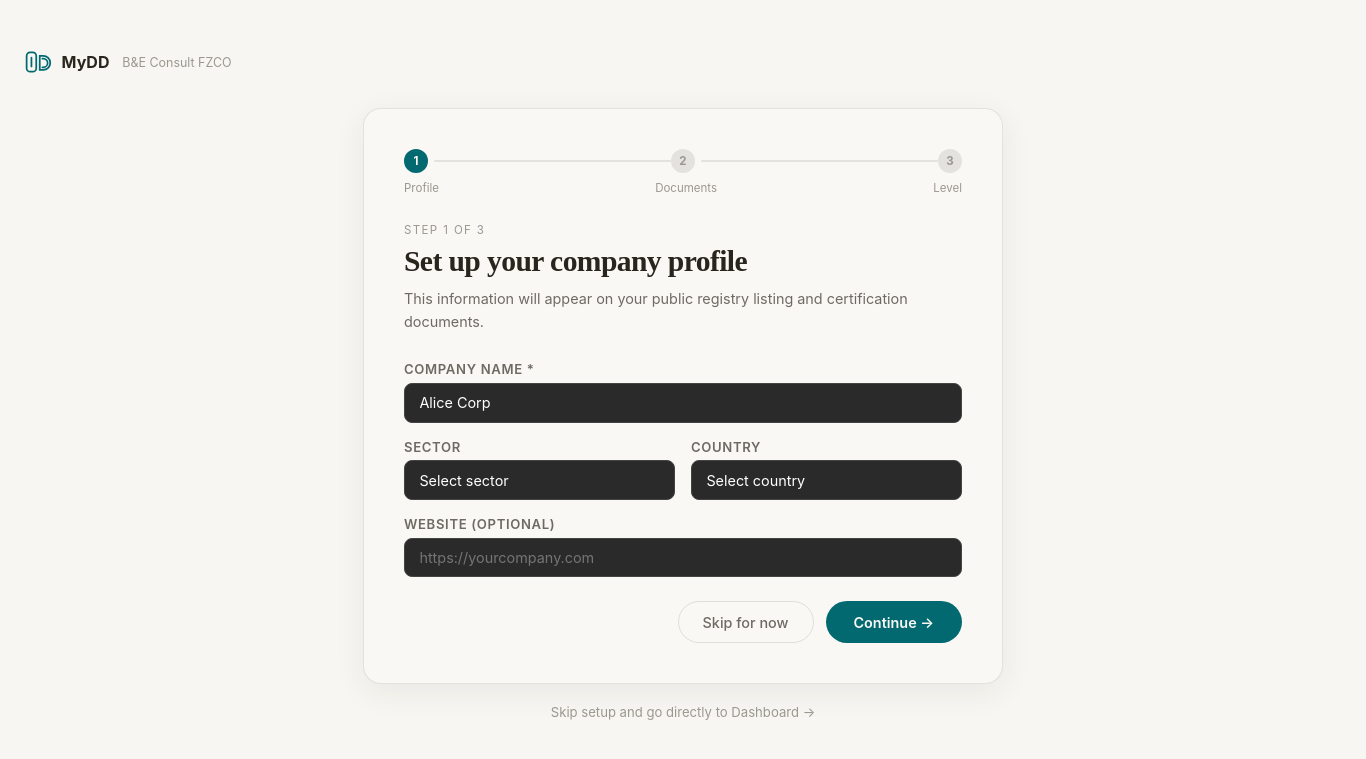
Test: Onboarding — Step 1: Profile › shows error when PATCH fails
Replace the text in the field with id "ob-name" with "Corp X" at (683, 403), box [404,383,962,423]
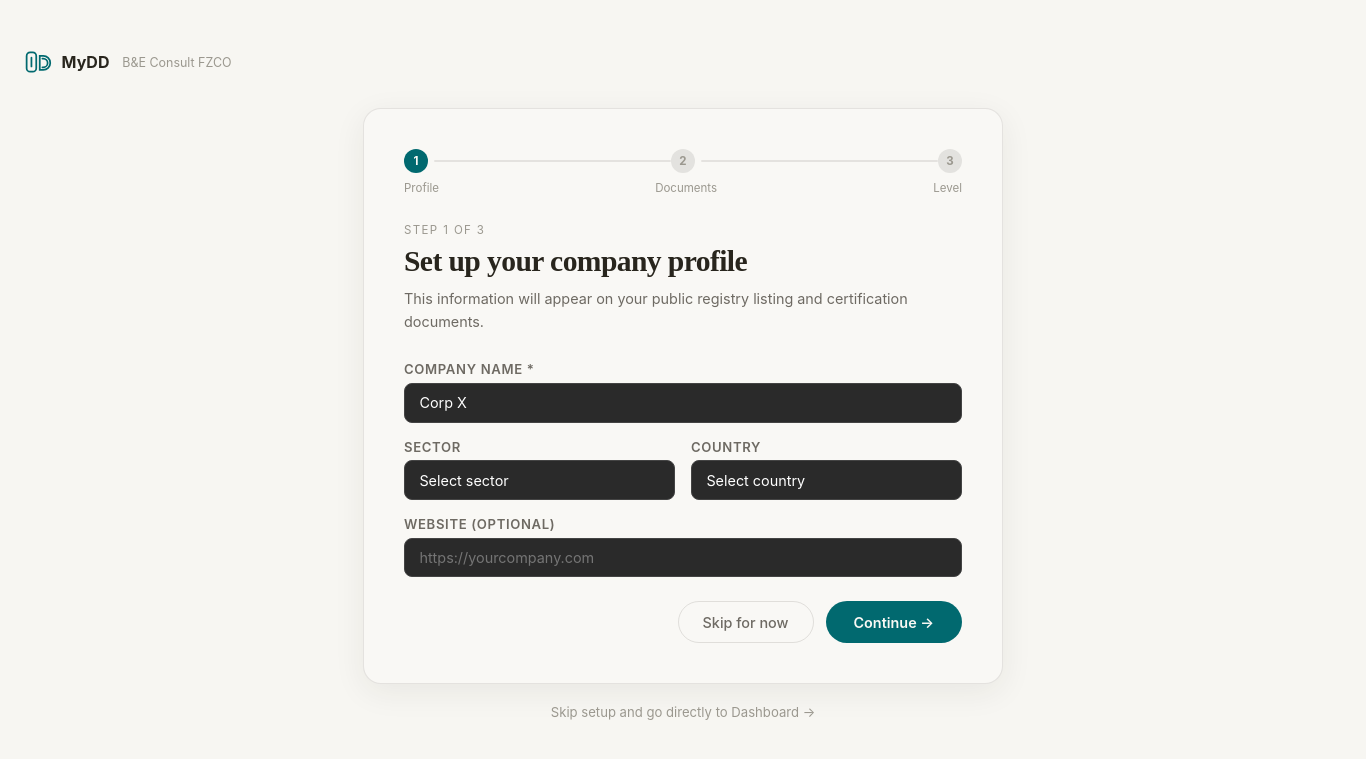
Click the button "Continue →".
click(894, 622)  # box [826,601,962,643]
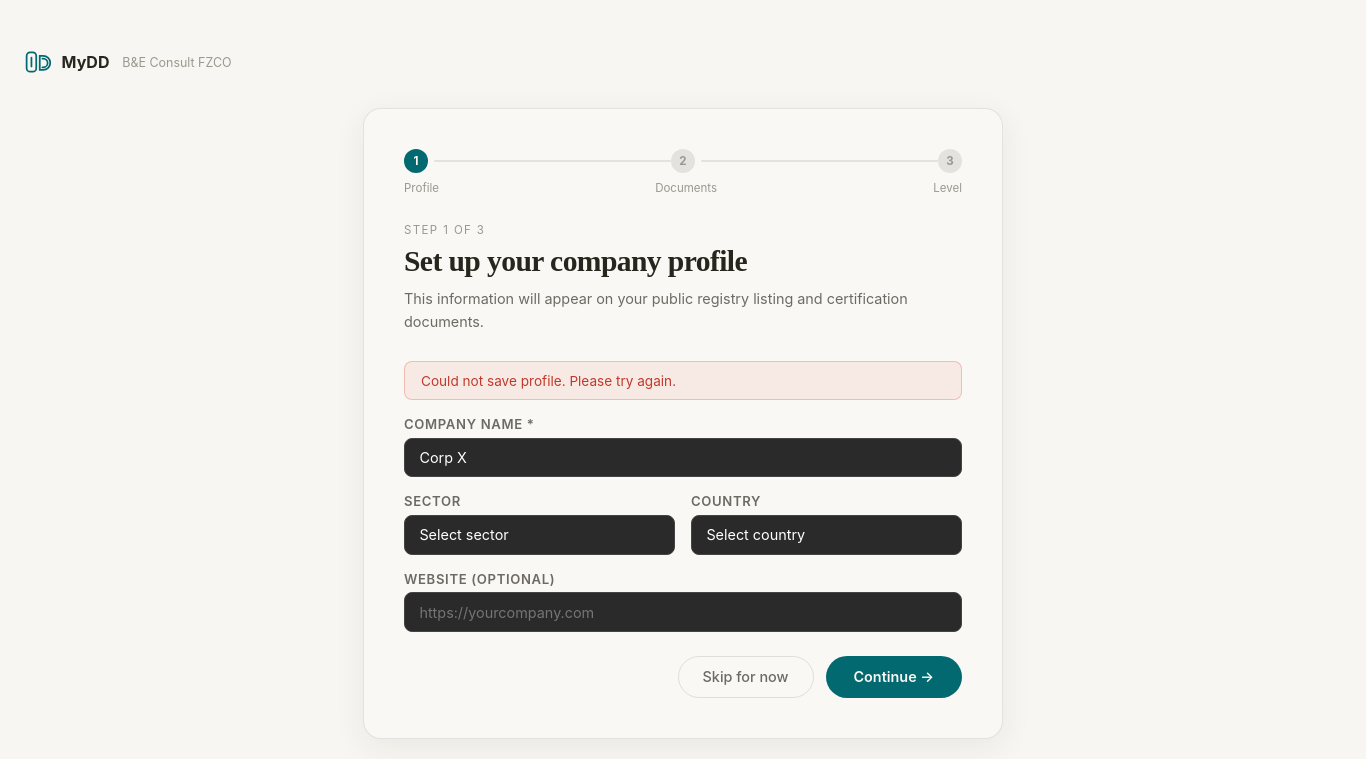
Now the text "Could not save profile. Please try again." is shown, box [404,361,962,400]
